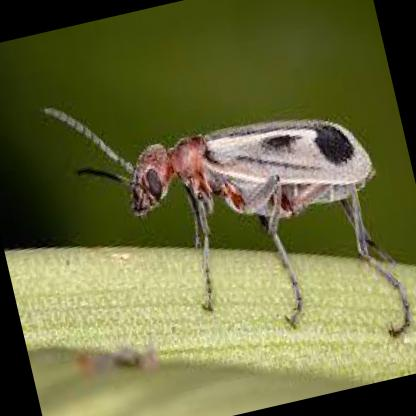blister beetle: (42, 108, 410, 335)
